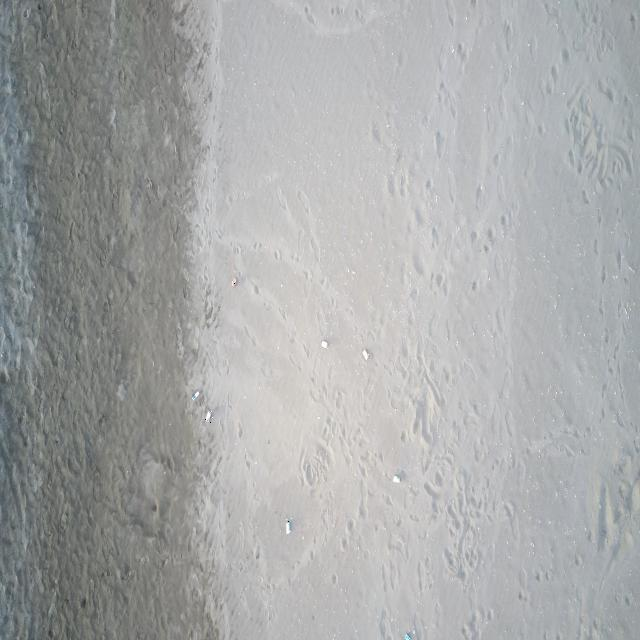Garbage: (203, 409, 211, 422), (284, 520, 291, 533), (362, 348, 369, 360), (392, 473, 400, 482), (192, 392, 200, 400), (320, 339, 327, 347), (404, 632, 412, 639), (231, 276, 236, 286)
